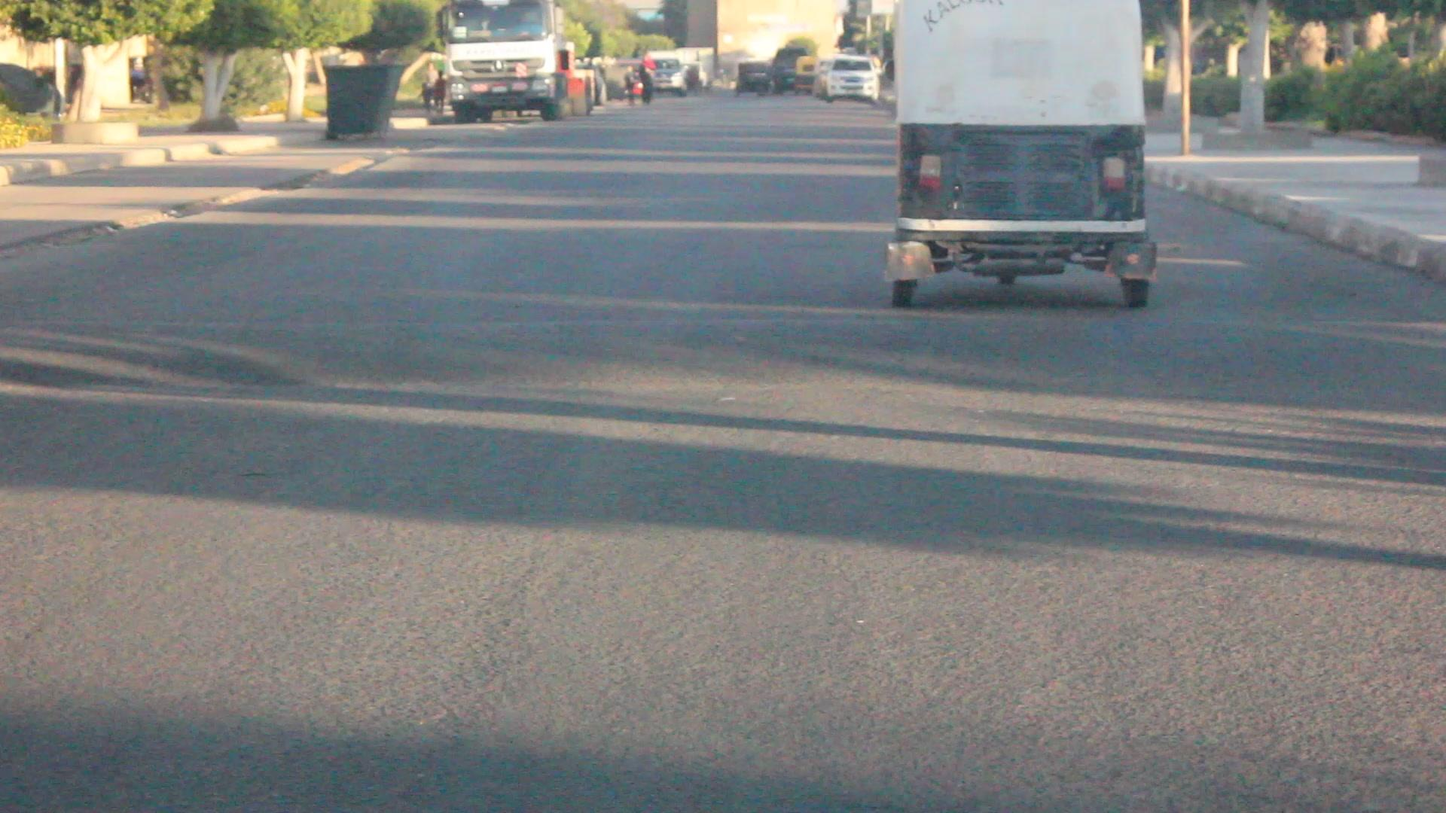Bump: (0, 314, 1446, 410)
